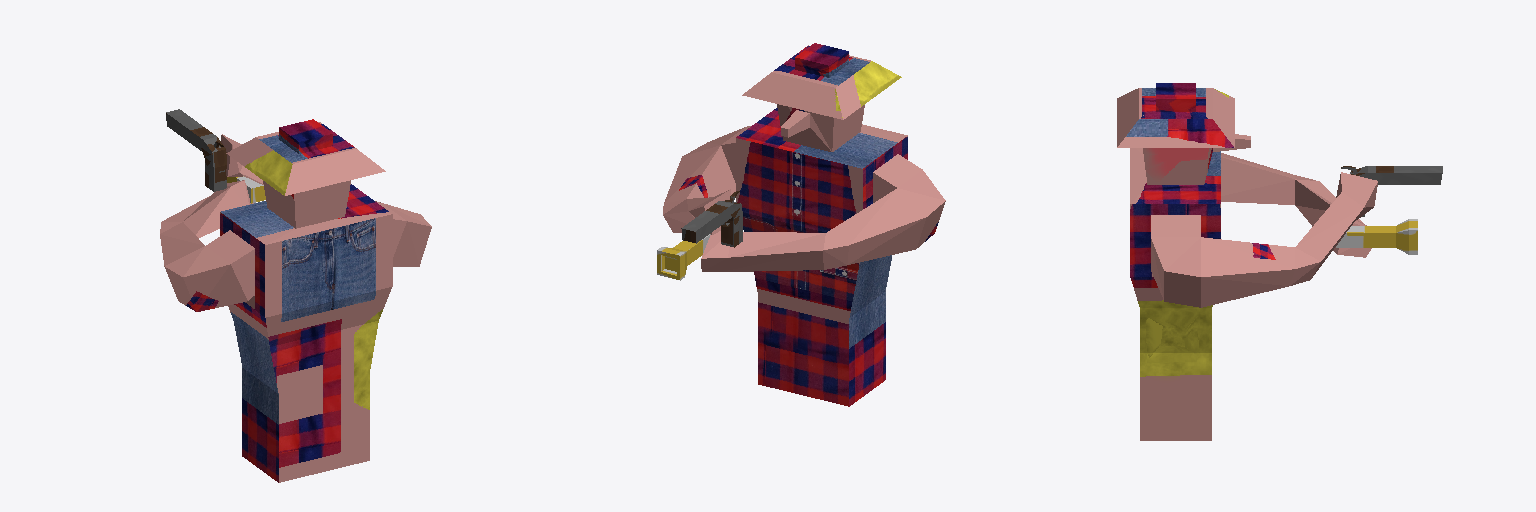
The picture shows the model from 3 angles: view 1: azimuth 30°, elevation 25°; view 2: azimuth 150°, elevation 25°; view 3: azimuth 270°, elevation 25°; orthographic projection.
Parts seen in each view (by area): view 1: Player; view 2: Player; view 3: Player.
Boxes of the visible parts, <box> form: Player: <box>160,109,431,482</box>; Player: <box>657,43,945,406</box>; Player: <box>1117,83,1442,440</box>.
Size of the model in its own units: 1.57 by 1.96 by 1.76.
3 materials, 3 textured.